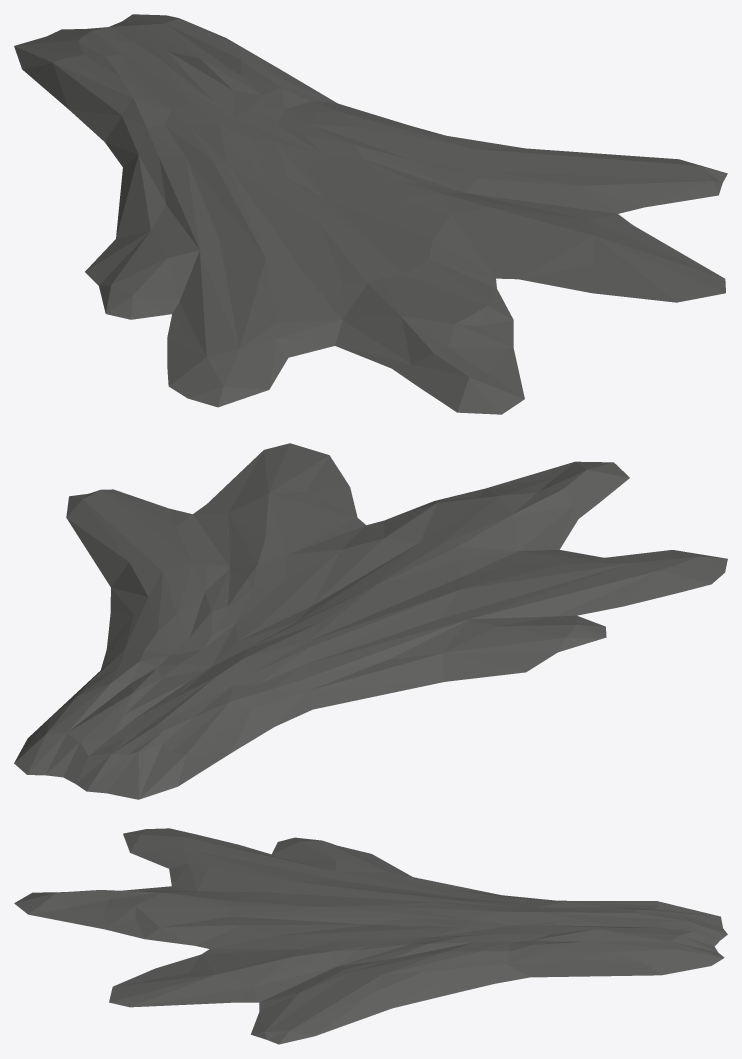
File: worlds_SM_Env_DirtRoad_End_01.gltf
The picture shows the model from 3 angles, top to bottom: view 1: azimuth 30°, elevation 25°; view 2: azimuth 150°, elevation 25°; view 3: azimuth 270°, elevation 25°; orthographic projection. The views are drawn at different scales.
Parts seen in each view (by area): view 1: SM_Env_DirtRoad_End_01; view 2: SM_Env_DirtRoad_End_01; view 3: SM_Env_DirtRoad_End_01.
Part boxes in pixels (box(x1,y1,x2,y2)): SM_Env_DirtRoad_End_01: box(14, 14, 727, 414); SM_Env_DirtRoad_End_01: box(14, 443, 727, 799); SM_Env_DirtRoad_End_01: box(14, 828, 727, 1044).
Size of the model in its own units: 15.69 by 0.7666 by 21.89.
Materials: 1 (1 with a texture image).
